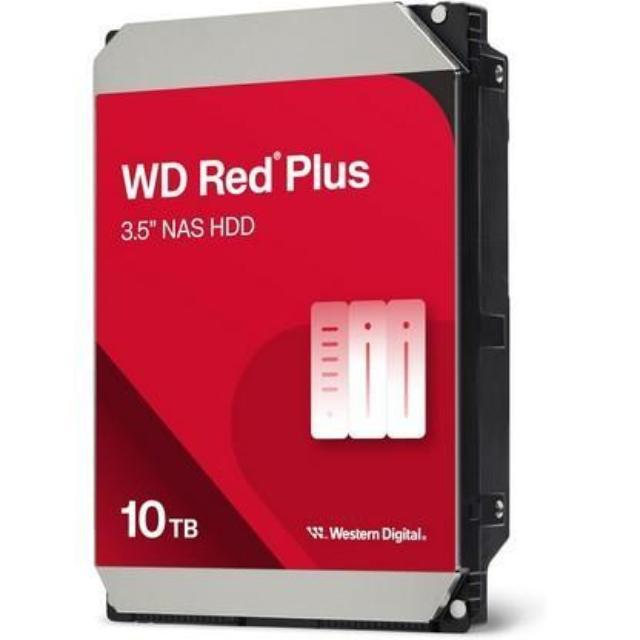DISK: (82, 2, 522, 627)
